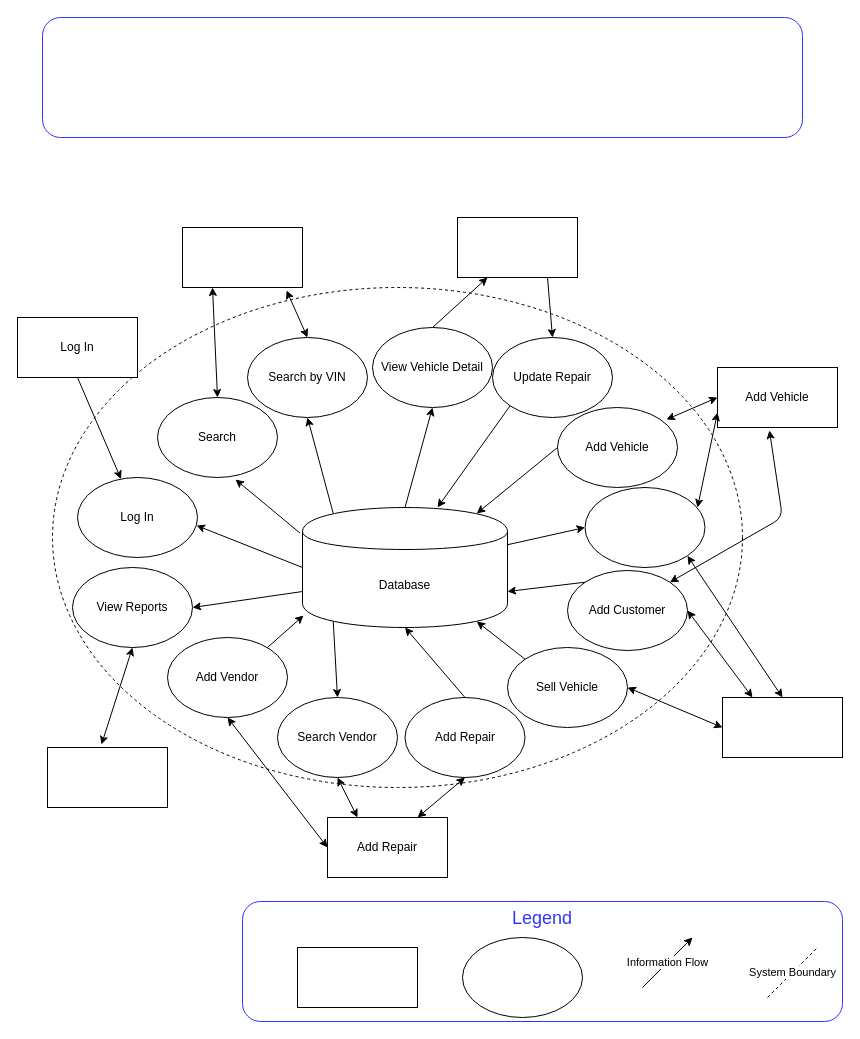
This 860x1039 diagram has some shape labels left out. The shapes that lost their labels are listed below. From the top down, each one's box as (x1, y1, x2, y2) in pixels, then its label:
(42, 16, 802, 138): Burdell's Ramblin' Wrecks Information Flow Diagram (IFD)
(182, 226, 302, 288): Search Page
(456, 216, 578, 278): Vehicle Detail
(584, 486, 705, 568): Search Customer
(722, 696, 842, 758): Sales Order Form
(46, 746, 168, 808): Reports
(296, 946, 418, 1008): Documents
(462, 936, 582, 1018): Tasks
